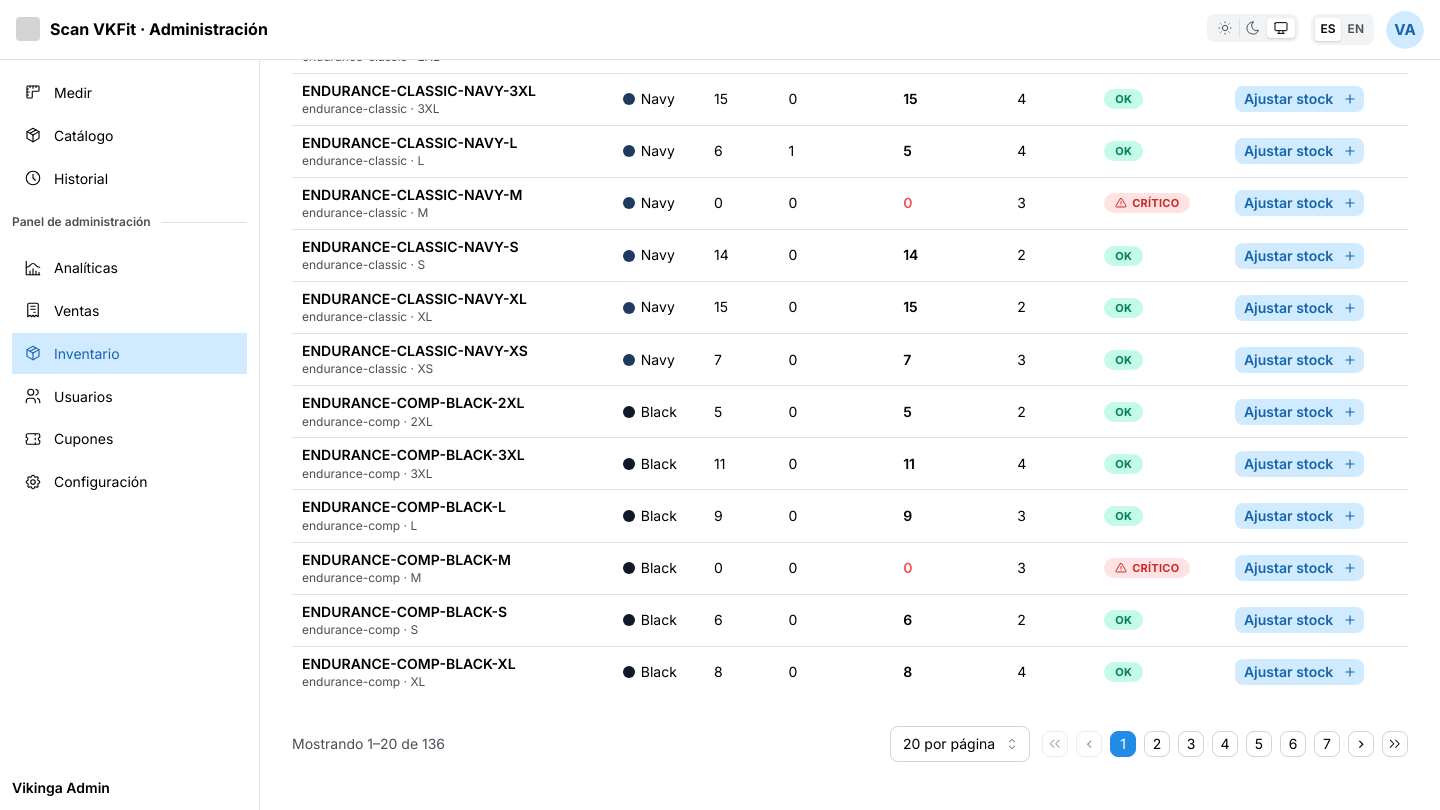
Test: inventario › pagina el inventario
This screenshot has width=1440, height=810.
(page scrolled)
Expected: the text "Mostrando 1–20 de 136" is shown, [292,734,445,754]
Expected: the text "ENDURANCE-CLASSIC-NAVY-M" is shown, [302,186,522,203]
What coordinates should you click on to do the following:
click the button "2"
I would click on:
 (1157, 744)
Its box is [1144,731,1170,757].
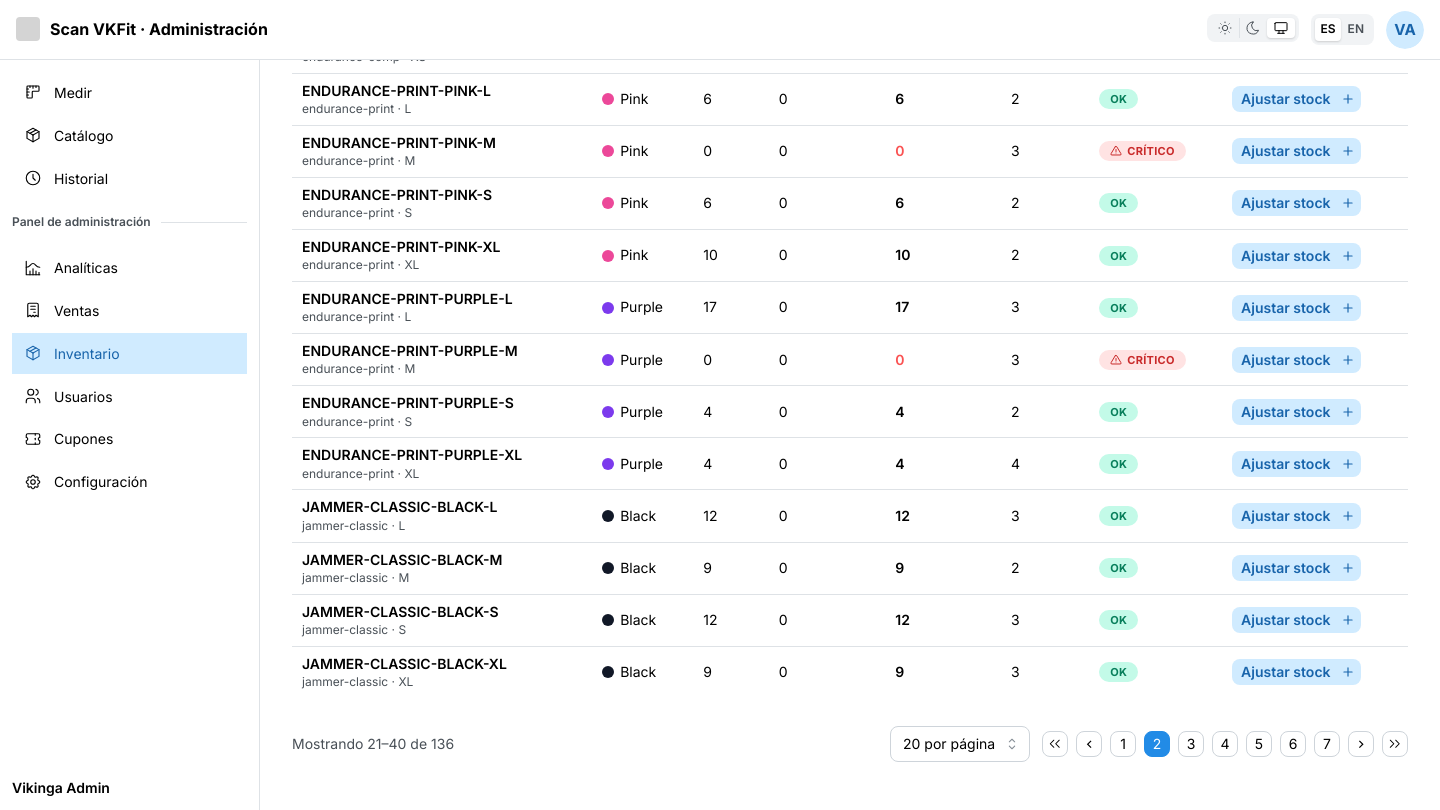
Expected: the text "Mostrando 21–40 de 136" is shown, [292,734,454,754]
